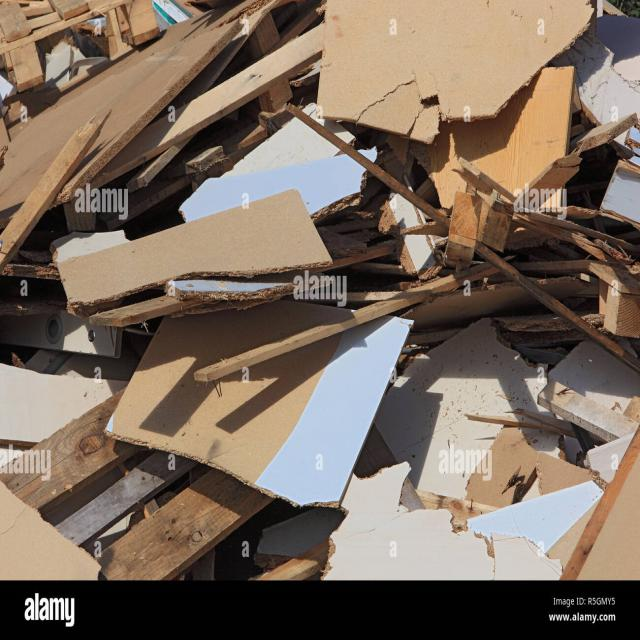green waste: (1, 7, 640, 572)
